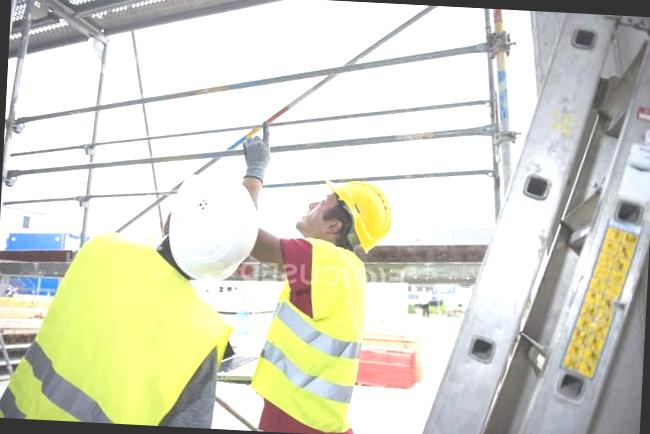helmet: (158, 178, 264, 282), (337, 172, 392, 250)
person: (0, 160, 263, 430), (244, 173, 391, 434)
